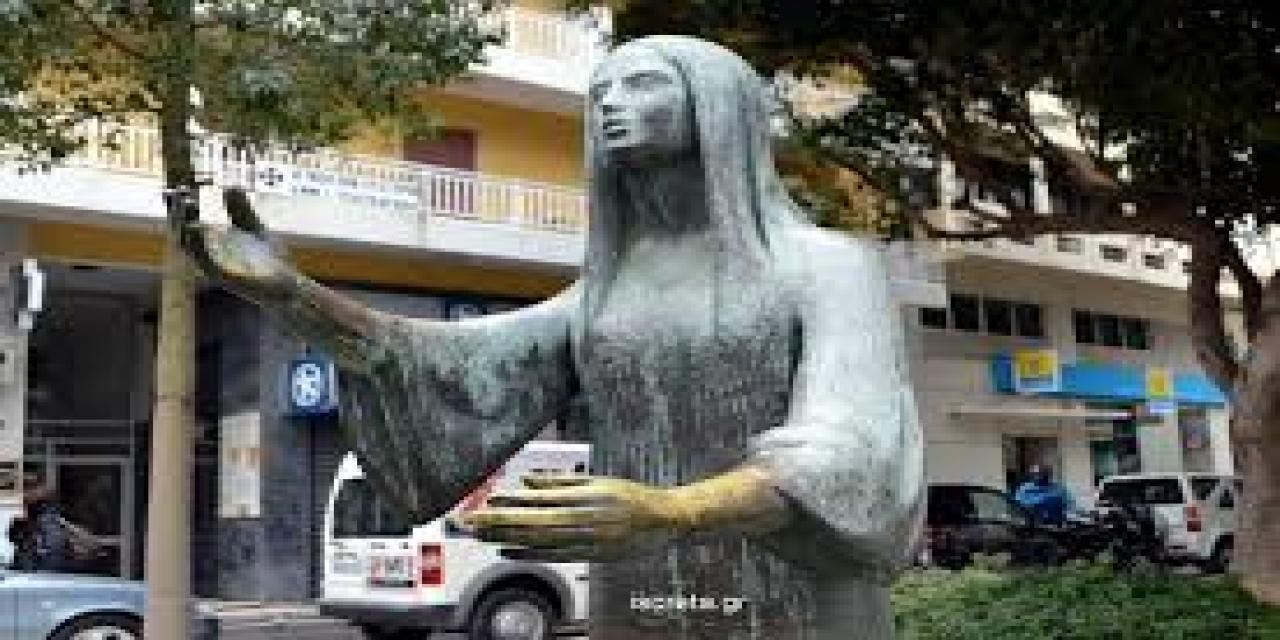Aretousa: (166, 35, 932, 640)
